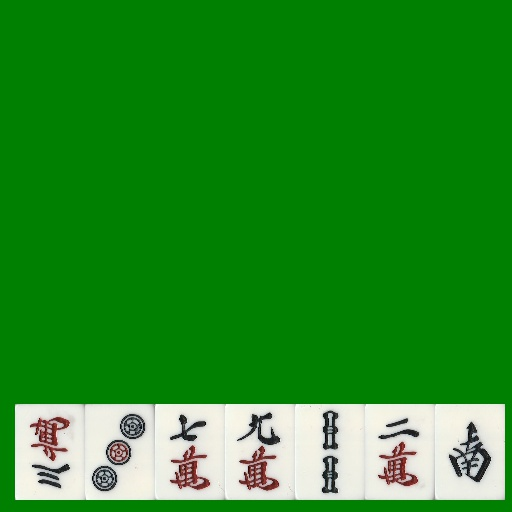2m: (365, 404, 435, 500)
2s: (295, 404, 365, 500)
3m: (15, 404, 85, 500)
3p: (85, 404, 155, 500)
7m: (155, 404, 225, 500)
9m: (225, 404, 295, 500)
south: (435, 404, 505, 500)
